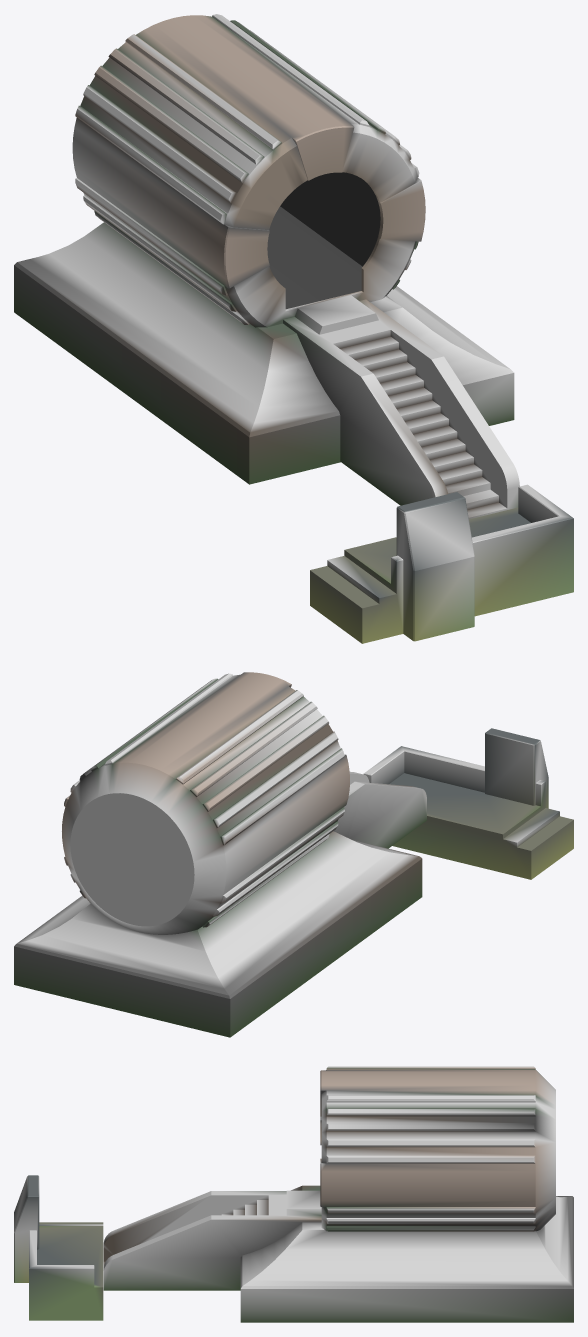
Rendered from PORTAL_ROCK.glb.
The picture shows the model from 3 angles, top to bottom: view 1: azimuth 30°, elevation 25°; view 2: azimuth 150°, elevation 25°; view 3: azimuth 270°, elevation 25°; orthographic projection. The views are drawn at different scales.
Parts seen in each view (by area): view 1: PORTAL; view 2: PORTAL; view 3: PORTAL.
Boxes of the visible parts, x1,y1,x2,y2 form: PORTAL: [14, 14, 573, 643]; PORTAL: [14, 672, 573, 1037]; PORTAL: [14, 1066, 573, 1322].
Bounding box in the file's own units: 10.45 × 10.71 × 23.75.
